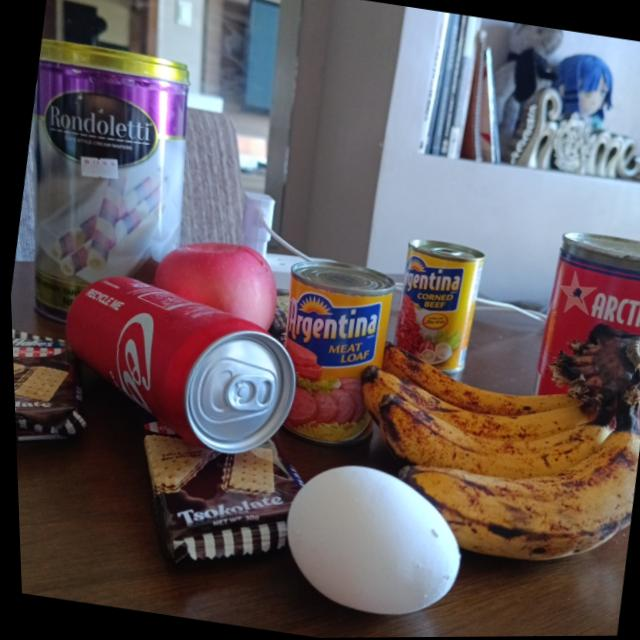apple: (145, 229, 287, 336)
coke: (45, 273, 305, 469)
egg: (273, 459, 472, 629)
